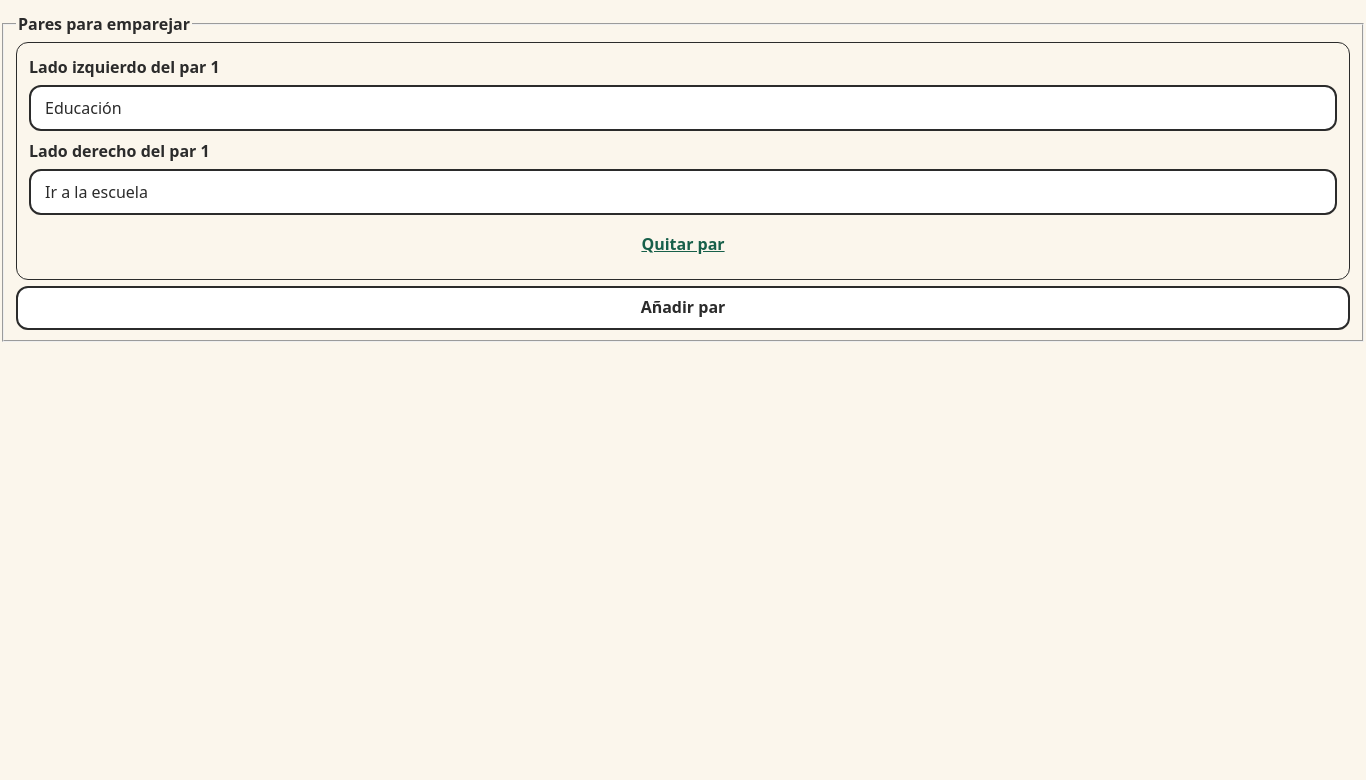
Test: EmparejarFields › añadir un par expone un segundo lado izquierdo editable
The image size is (1366, 780).
Click the button "Añadir par".
click(683, 308)  # box x1=16 y1=286 x2=1350 y2=330
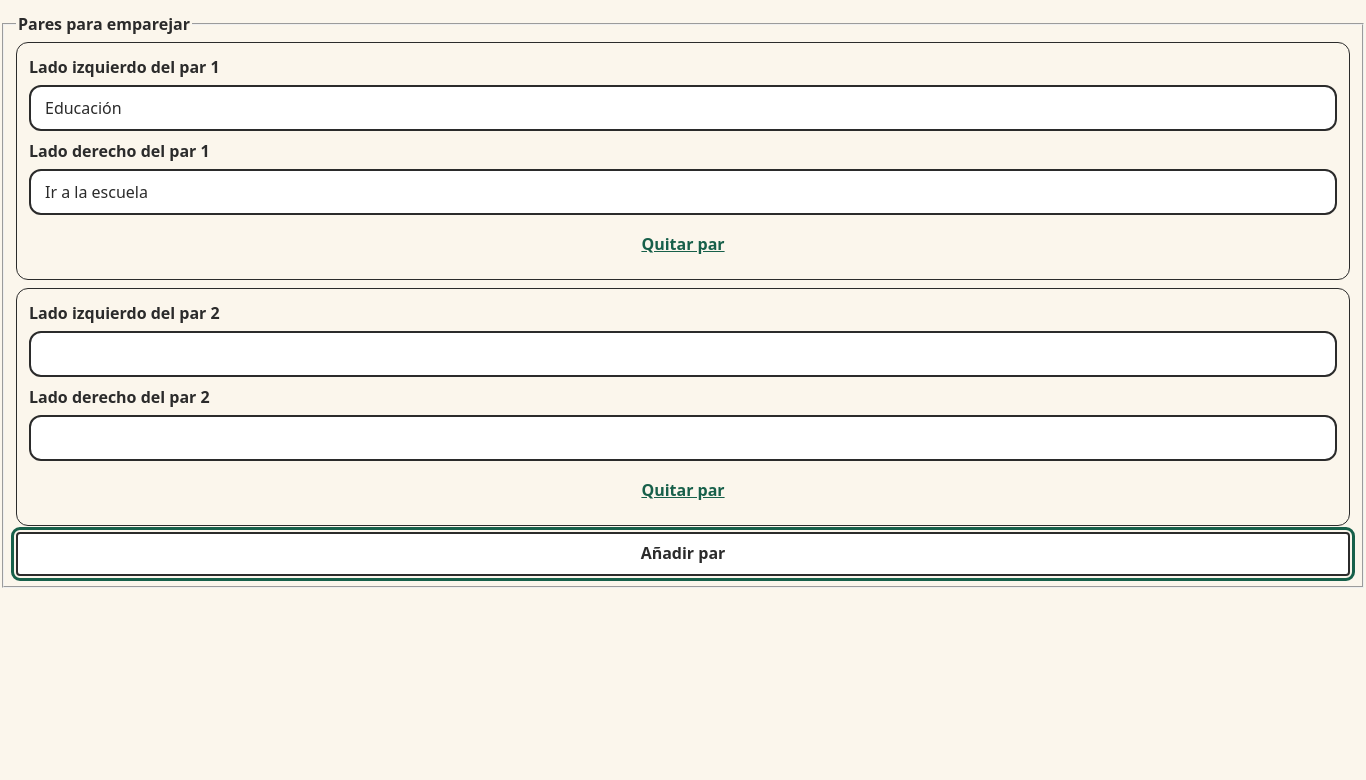
expect the field labelled "Lado izquierdo del par 2" is shown: met, box x1=29 y1=331 x2=1337 y2=377
